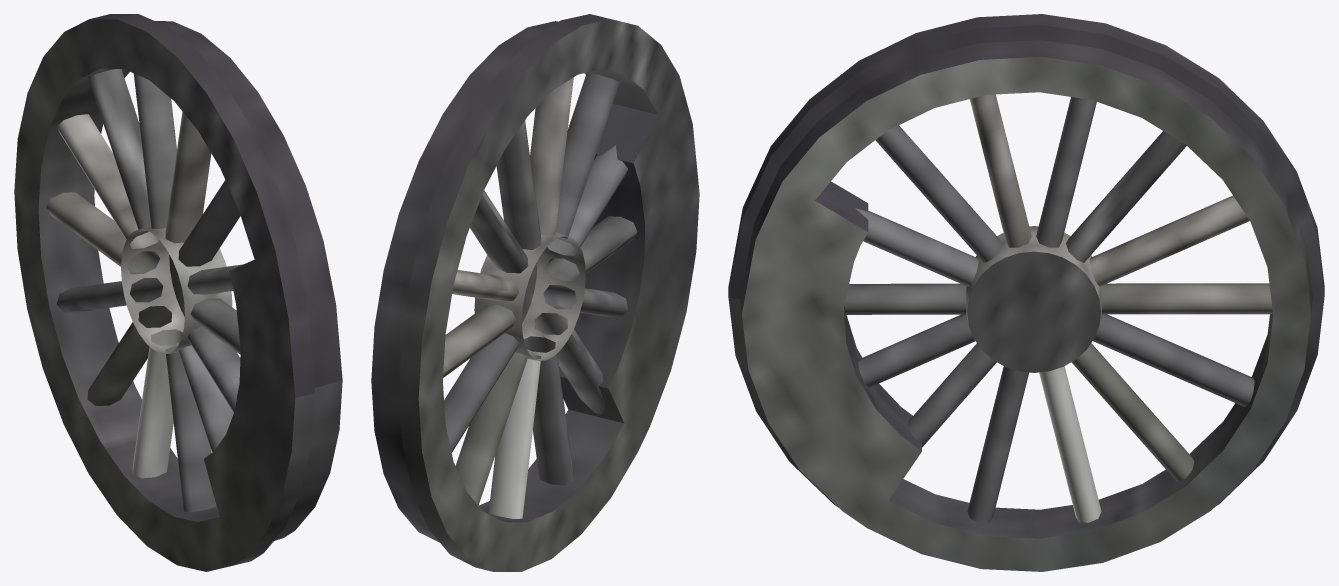
Rendered from RuedaIzq3.obj.
The picture shows the model from 3 angles, left to right: view 1: azimuth 30°, elevation 25°; view 2: azimuth 150°, elevation 25°; view 3: azimuth 270°, elevation 25°; orthographic projection. The views are drawn at different scales.
Visible parts, largest first — view 1: RiedaIzq3; view 2: RiedaIzq3; view 3: RiedaIzq3.
Part boxes in pixels (x1,y1,x2,y2): RiedaIzq3: (14, 14, 342, 571); RiedaIzq3: (371, 14, 699, 571); RiedaIzq3: (728, 14, 1324, 571).
Bounding box in the file's own units: 0.0446 × 0.3902 × 0.3867.
1 material, 1 textured.
